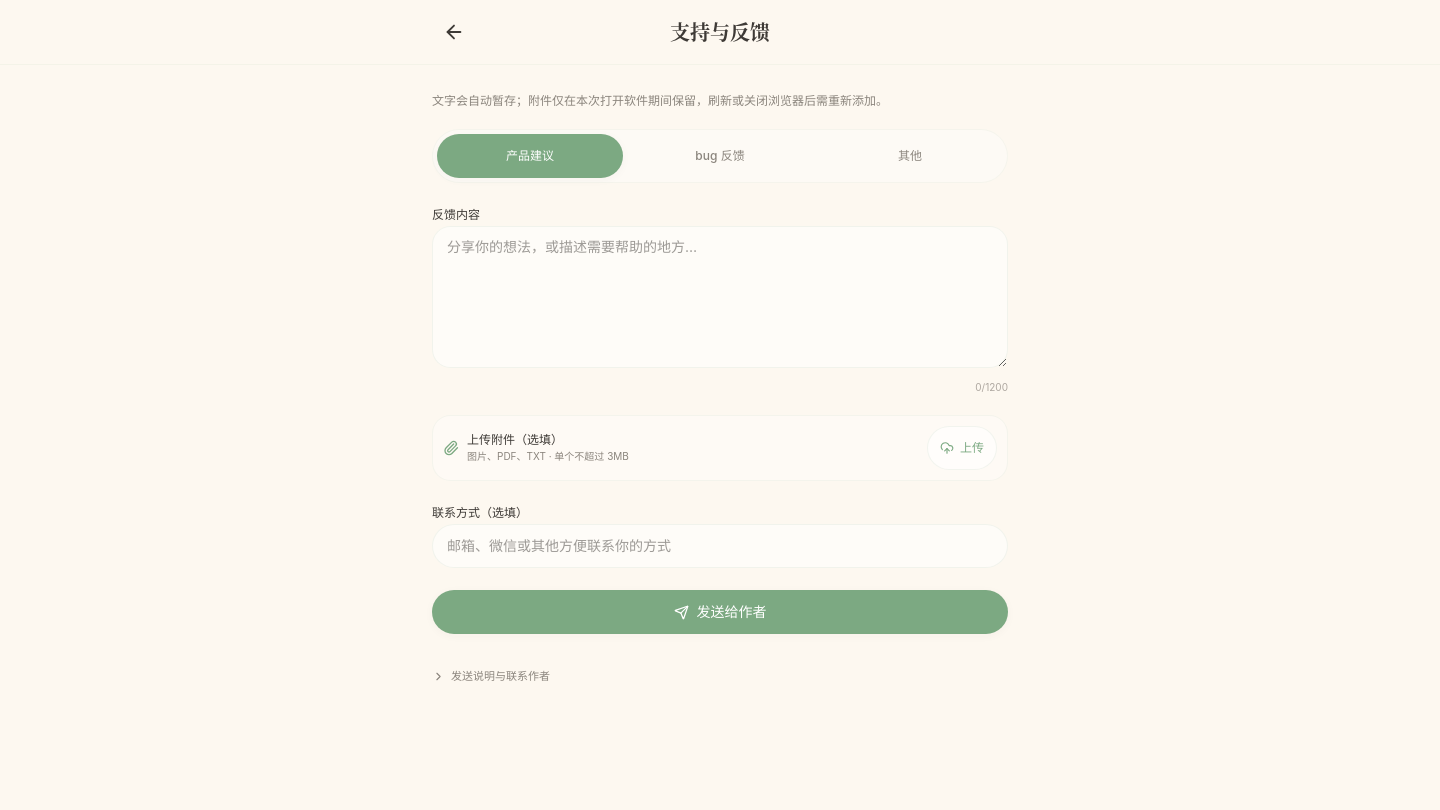
FeedbackModal › 邮件服务未配置时保留草稿并提供手动邮箱兜底
Type "希望反馈入口更清楚" into the text box with placeholder "分享你的想法，或描述需要帮助的地方…" at (720, 297), box left=432, top=226, right=1008, bottom=368
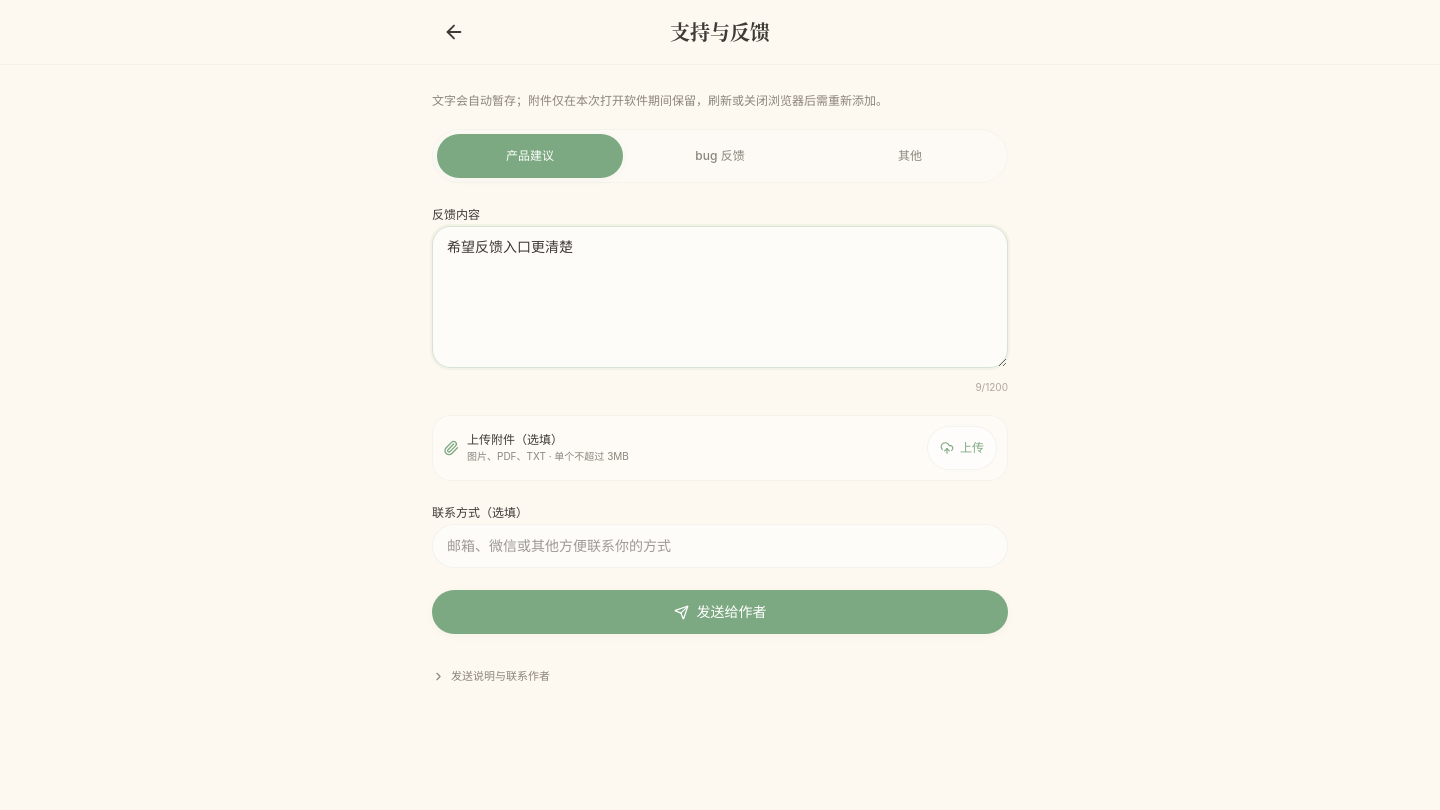
Click the button "发送给作者" at (720, 612), box left=432, top=590, right=1008, bottom=634
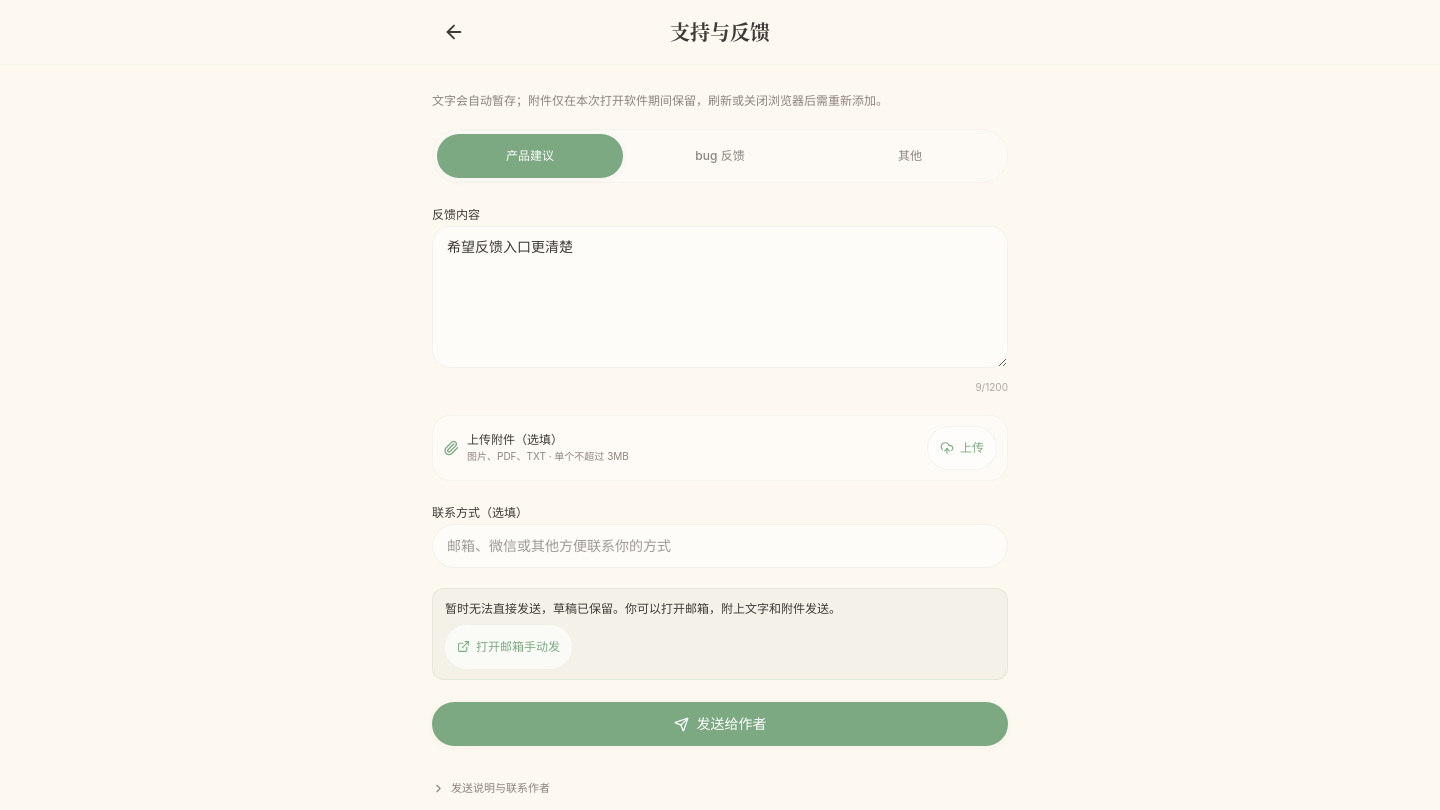
Check: the text "暂时无法直接发送，草稿已保留。你可以打开邮箱，附上文字和附件发送。" is shown, box left=445, top=600, right=841, bottom=616
